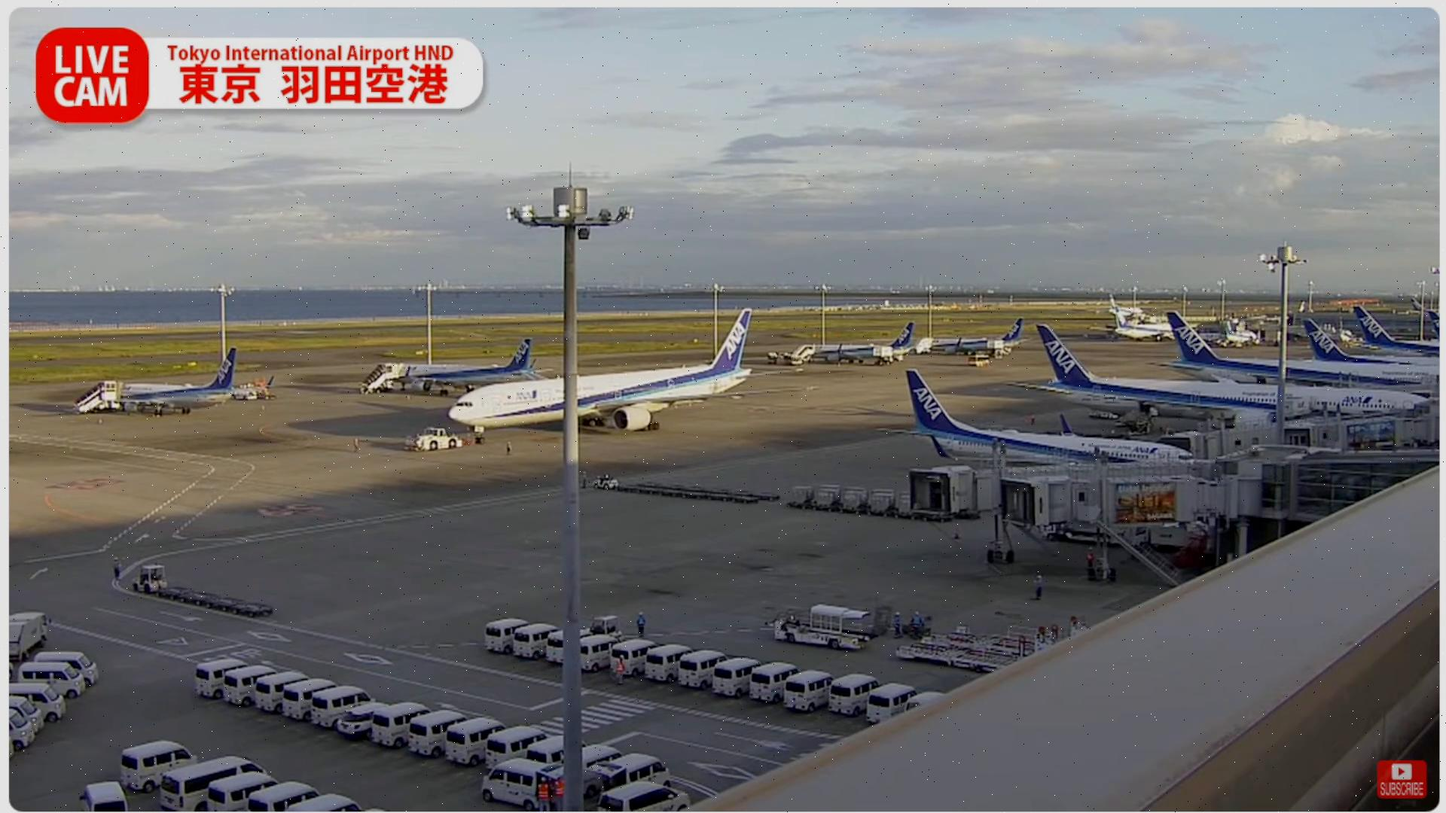APS: (413, 422, 464, 454)
Airplane: (443, 307, 758, 447)
Dolly: (152, 580, 283, 617)
JCPL: (893, 630, 1039, 676)
Skyloader: (774, 600, 879, 655)
Tractor: (134, 564, 168, 598)
